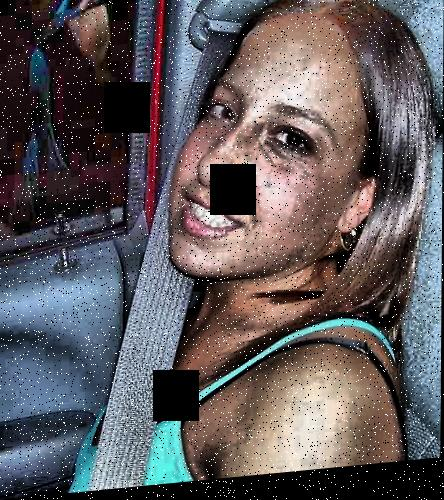seatbelt: (101, 31, 251, 455)
